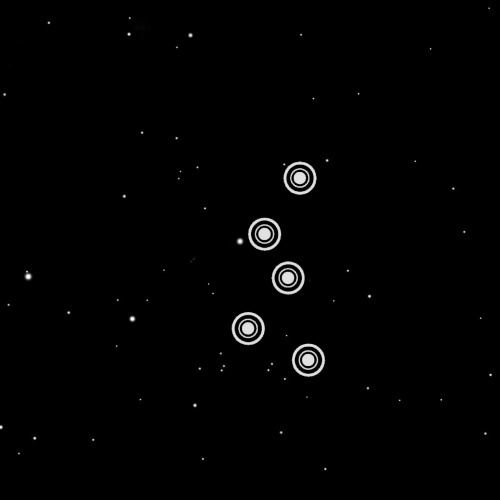cassiopeia: (220, 152, 335, 383)
